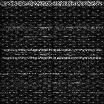lte: (1, 1, 104, 5), (1, 48, 104, 52), (1, 56, 103, 60)
